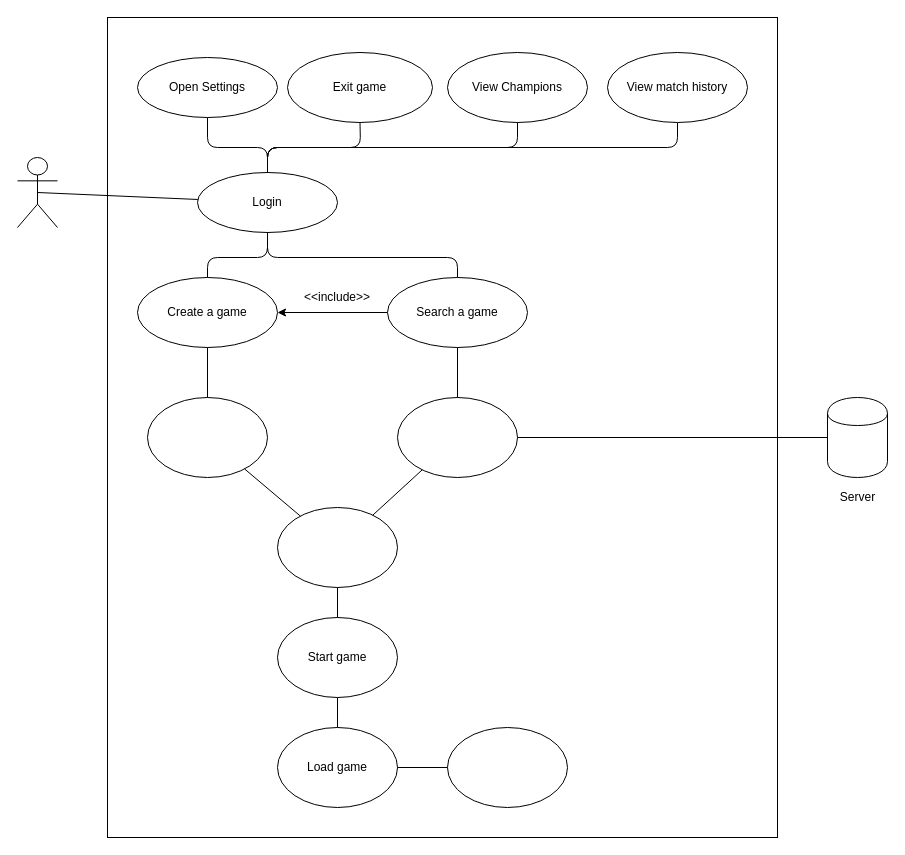
Some shapes in this 905 by 855 pixel diagram are drawn without their labels. The shapes that lost their labels are listed below. From the top down, each one's box as (x1, y1, x2, y2) in pixels, then its label:
(16, 156, 58, 228): Player
(146, 396, 268, 478): Invite friends
(396, 396, 518, 478): Match players
(276, 506, 398, 588): Choose setup
(446, 726, 568, 808): Spawn players
